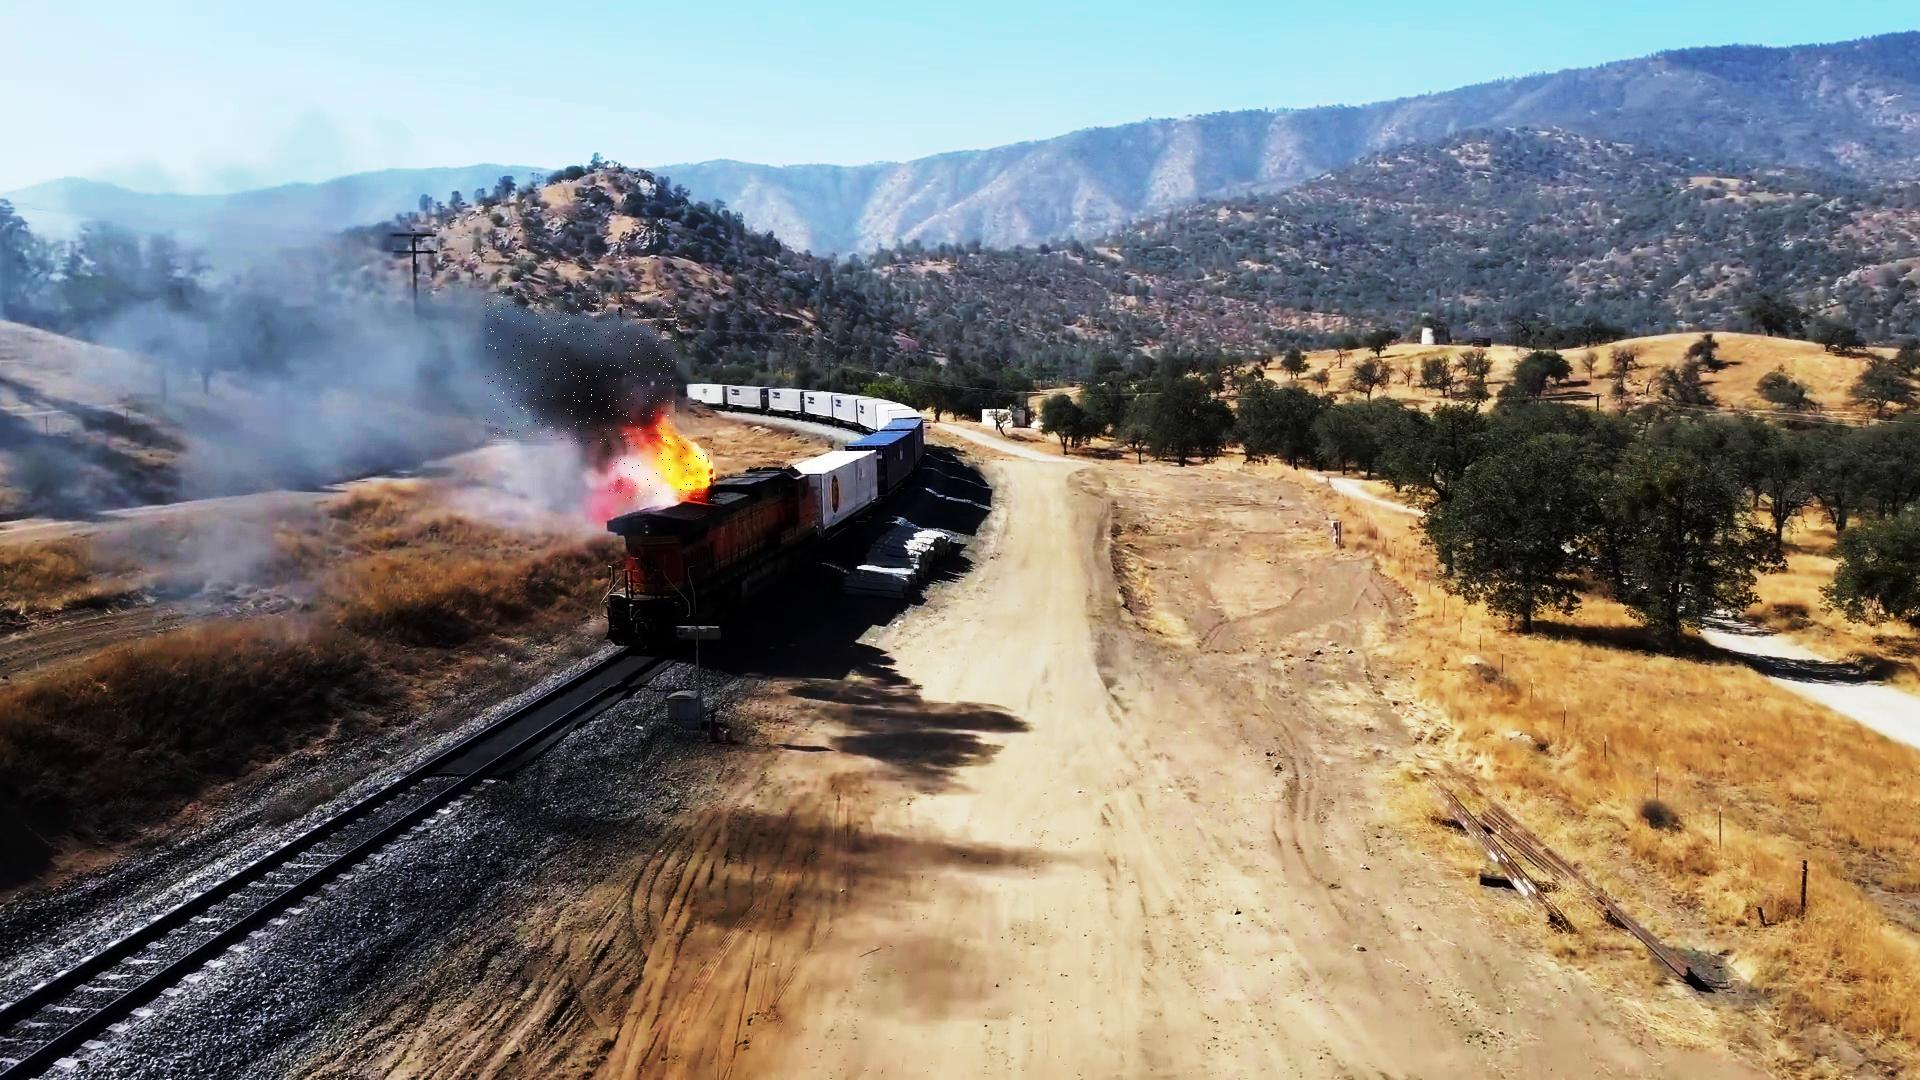fire: (608, 435, 713, 501)
smoke: (485, 293, 680, 444)
